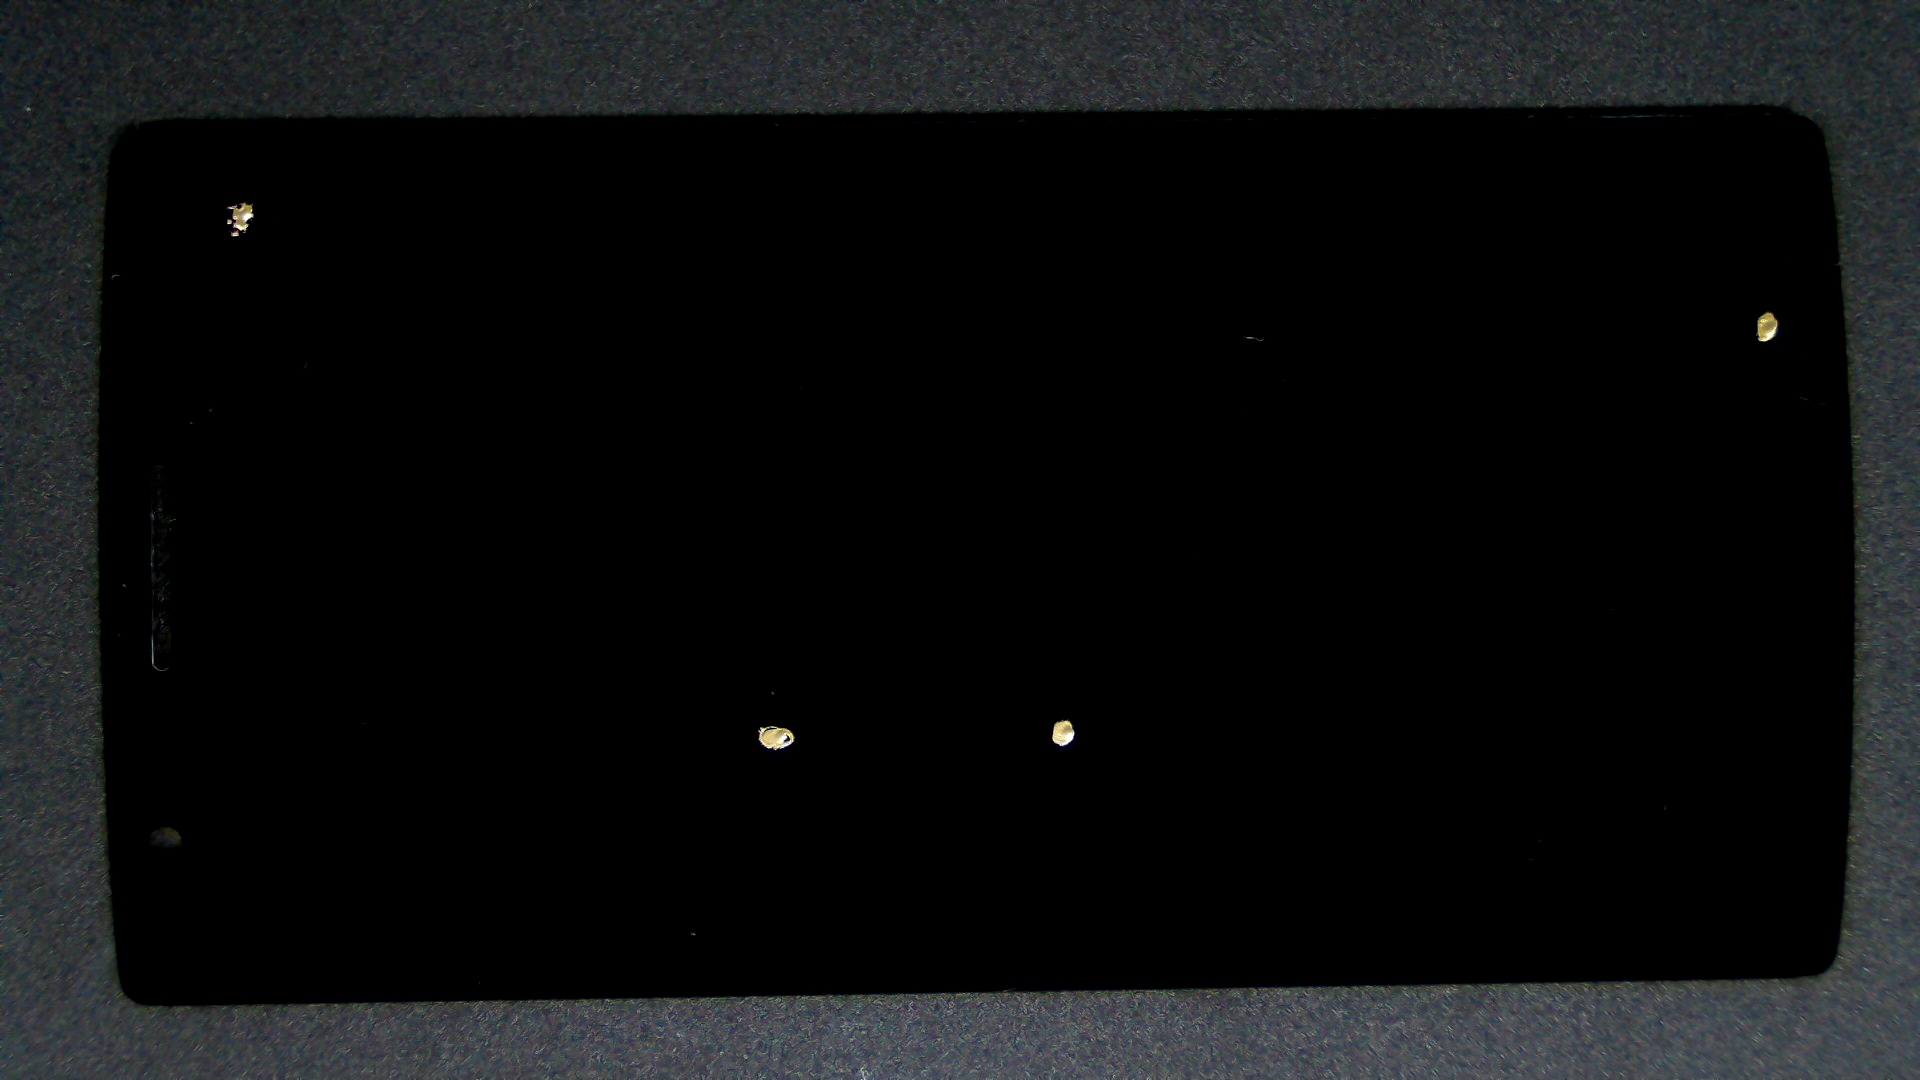oil: (531, 359, 1594, 1077), (386, 361, 1156, 1080), (884, 154, 1920, 465), (121, 100, 363, 302)
